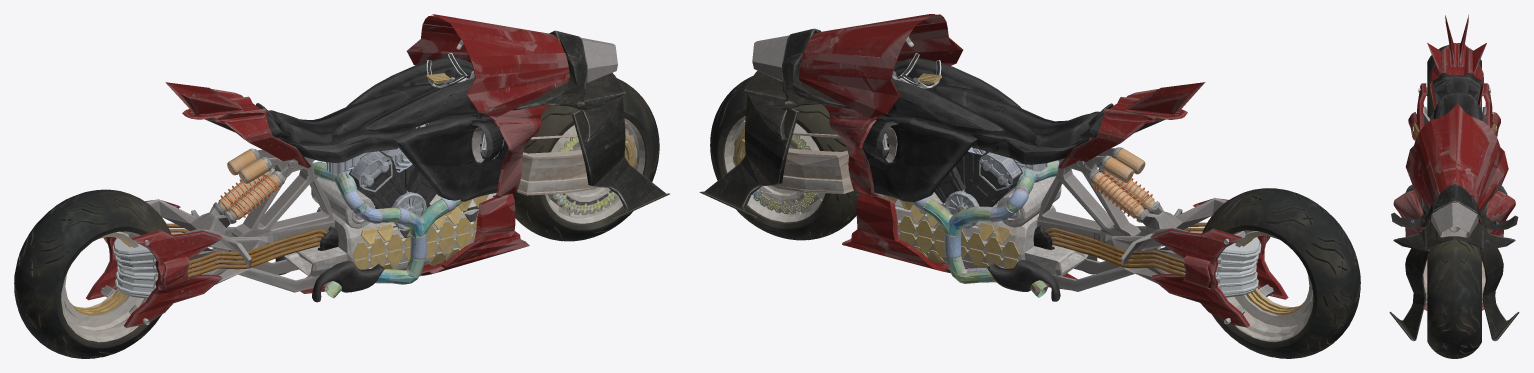
The model's file is iron-lily.glb.
The picture shows the model from 3 angles, left to right: view 1: azimuth 30°, elevation 25°; view 2: azimuth 150°, elevation 25°; view 3: azimuth 270°, elevation 25°; orthographic projection. The views are drawn at different scales.
Parts seen in each view (by area): view 1: Plane.007, Box.018, Cylinder.001, Box.044, Plane.014, Box.027, Box.026, Box.010, Box.025, Cube.022, Box.046, Cylinder.093 (+30 smaller); view 2: Plane.007, Cylinder.001, Box.018, Box.044, Plane.014, Box.027, Box.026, Box.010, Box.025, Cube.022, Box.046, Cylinder.093 (+29 smaller); view 3: Plane.014, Box.044, Cylinder.093, Cylinder.001, Cube.032, Box.045, Cube.031, Box.041, Box.025, Box.026, Box.042, Box.043 (+7 smaller).
Boxes of the visible parts, box(x1,y1,x2,y2) form: Plane.007: box(14, 189, 171, 358); Box.018: box(393, 115, 507, 201); Cylinder.001: box(406, 24, 569, 117); Box.044: box(571, 73, 669, 219); Plane.014: box(512, 78, 659, 241); Box.027: box(146, 199, 334, 292); Box.026: box(86, 199, 222, 327); Box.010: box(346, 57, 476, 132); Box.025: box(269, 84, 476, 145); Cube.022: box(284, 192, 496, 276); Box.046: box(300, 193, 529, 293); Cylinder.093: box(423, 14, 564, 56); Plane.007: box(1202, 188, 1360, 358); Cylinder.001: box(798, 21, 963, 118); Box.018: box(863, 115, 977, 202); Box.044: box(699, 70, 798, 217); Plane.014: box(710, 75, 859, 240); Box.027: box(1037, 198, 1227, 291); Box.026: box(1150, 198, 1288, 327); Box.010: box(887, 58, 1021, 134); Box.025: box(881, 85, 1099, 147); Cube.022: box(875, 192, 1088, 275); Box.046: box(842, 192, 1077, 290); Cylinder.093: box(804, 14, 945, 58); Plane.014: box(1427, 239, 1481, 358); Box.044: box(1389, 221, 1519, 341); Cylinder.093: box(1420, 103, 1493, 194); Cylinder.001: box(1405, 130, 1508, 210); Cube.032: box(1391, 183, 1518, 229); Box.045: box(1393, 188, 1515, 236); Cube.031: box(1431, 202, 1478, 237); Box.041: box(1430, 42, 1483, 109); Box.025: box(1433, 92, 1482, 120); Box.026: box(1416, 83, 1493, 130); Box.042: box(1427, 42, 1486, 74); Box.043: box(1445, 14, 1468, 67).
Bounding box in the file's own units: 35.52 × 13.69 × 8.26.
Materials: 29 (29 with a texture image).
